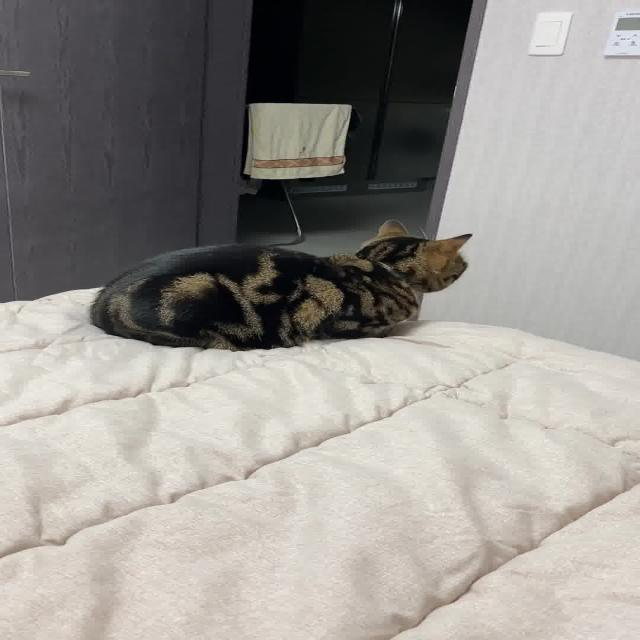cat: (78, 215, 482, 352)
